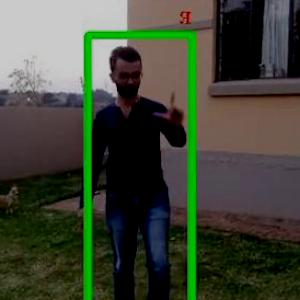land_hand: (150, 84, 192, 130)
